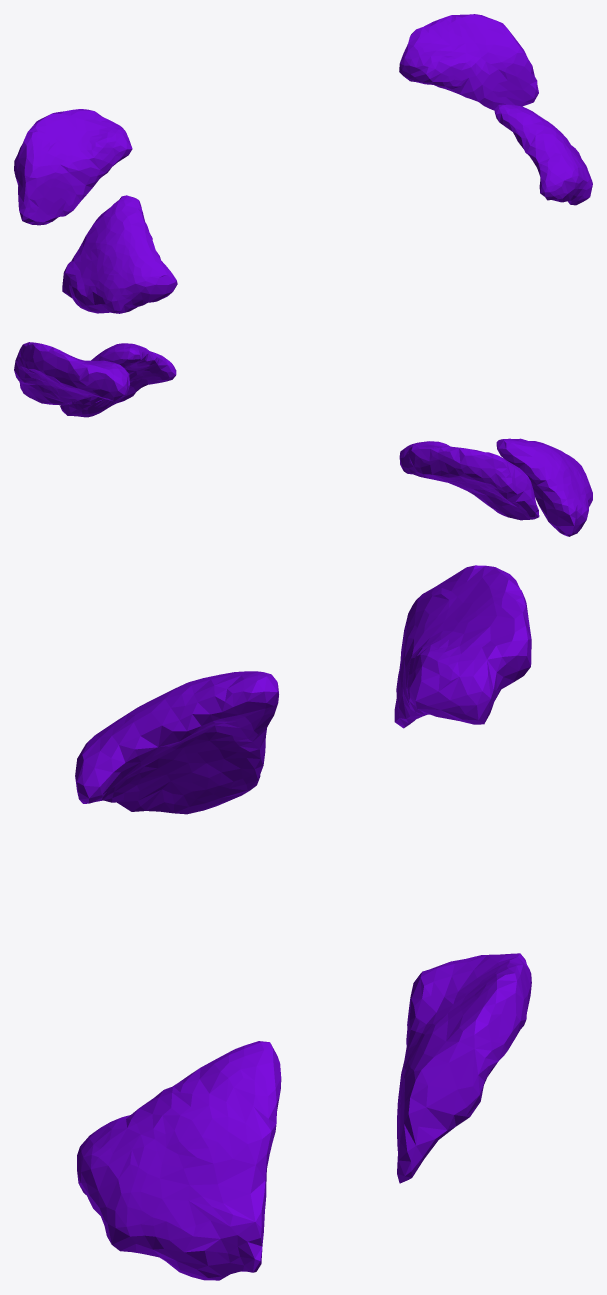
The model's file is 173-S2-secondary somatosensory cortex-('0.5373', '0.0000', '1.0000').obj.
3 renders of one model, top to bottom at view 1: azimuth 30°, elevation 25°; view 2: azimuth 150°, elevation 25°; view 3: azimuth 270°, elevation 25°, orthographic. The views are drawn at different scales.
Size of the model in its own units: 305 by 74.71 by 117.
